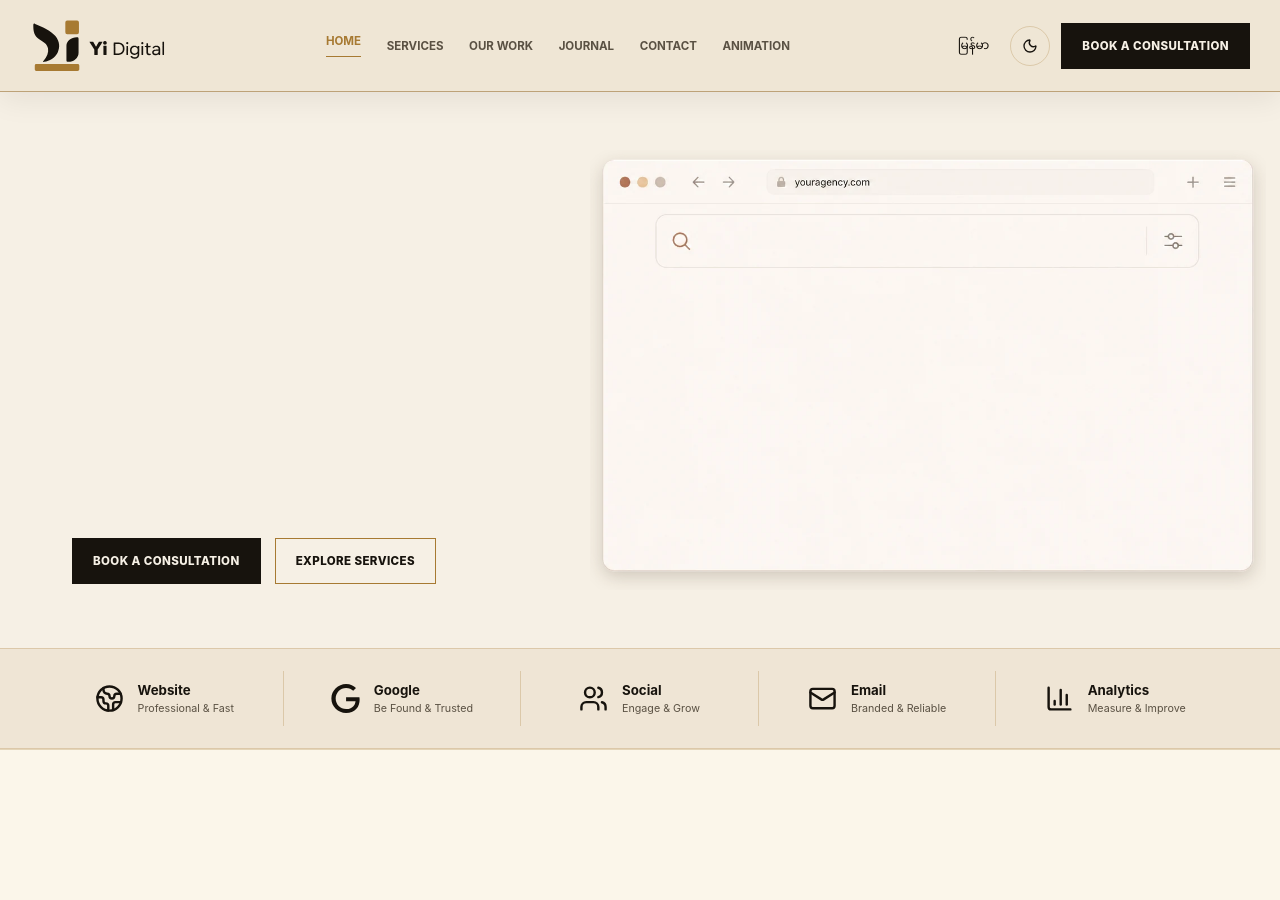
Test case: Yi Digital › switches the complete homepage to Myanmar language
Step 1. Click the button named "switch to Myanmar language" → (974, 46), box [948,22,999,68]
(page scrolled)
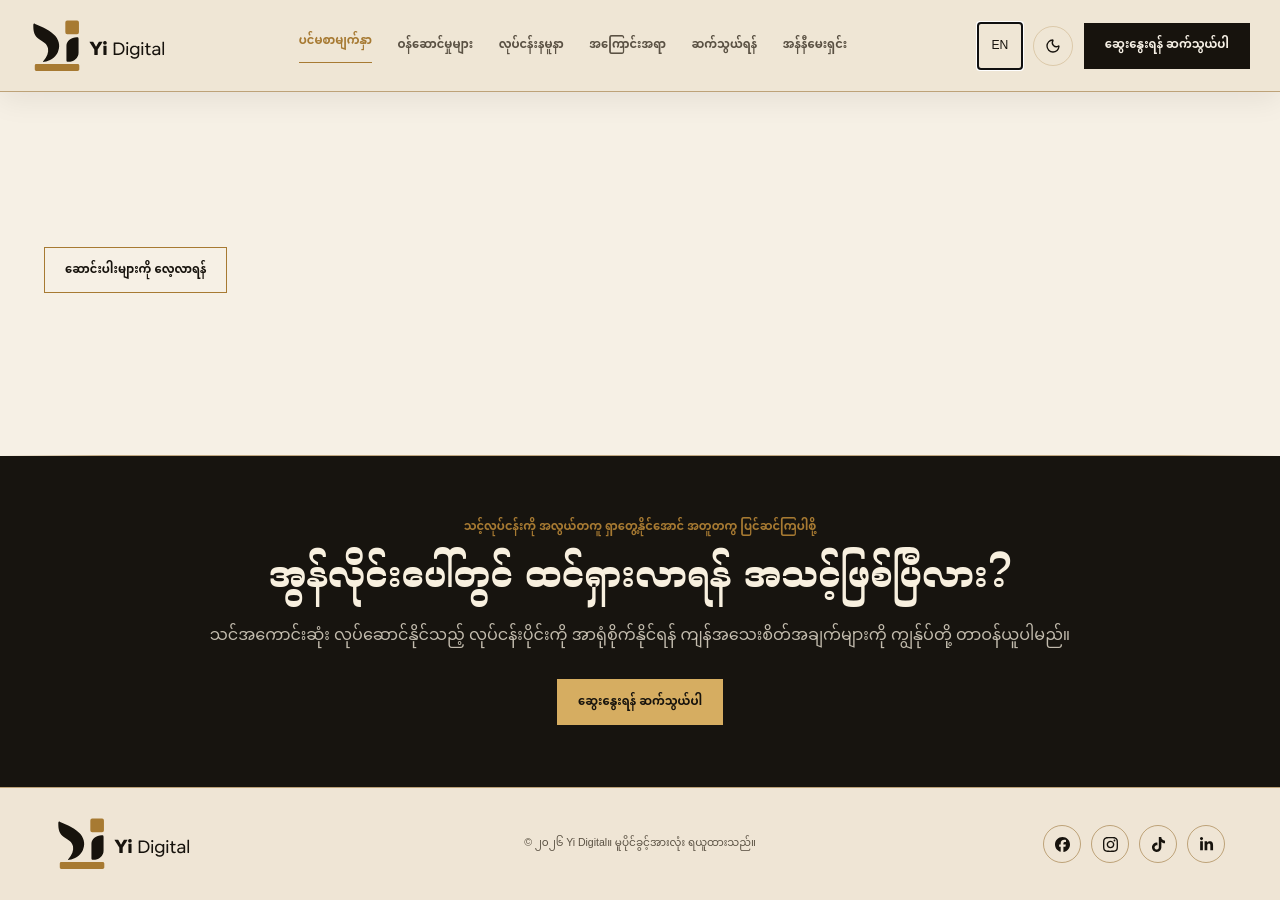
Expected: the button "EN" is shown, [978,22,1022,68]
Expected: the text "© ၂၀၂၆ Yi Digital။ မူပိုင်ခွင့်အားလုံး ရယူထားသည်။" is shown, [524,835,756,853]
